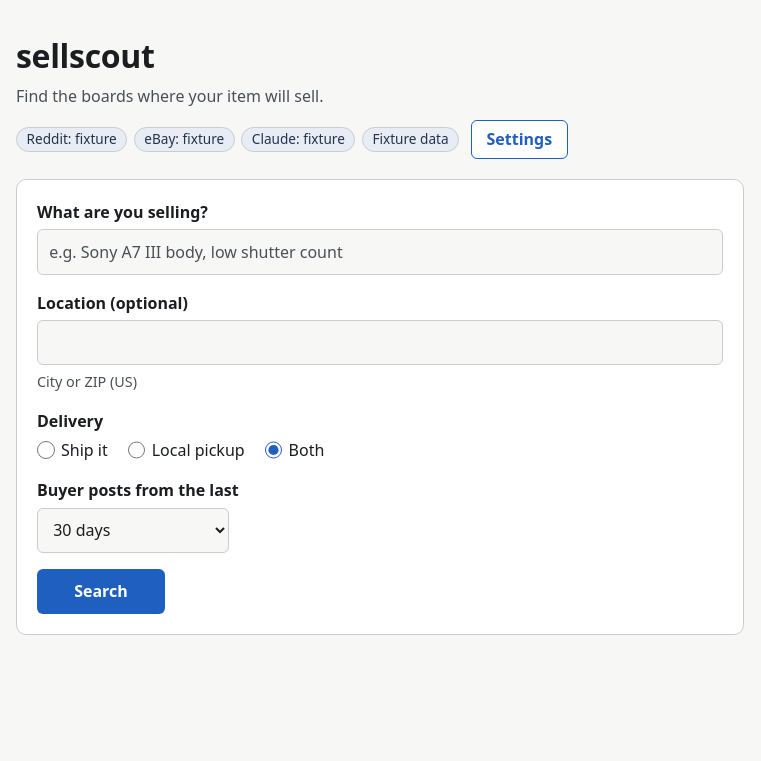
it: venue row: AI suggested badge › shows the badge as plain text and only the board link
In the field labelled "What are you selling?": (380, 252) [37,229,723,275], type "mechanical keyboard"
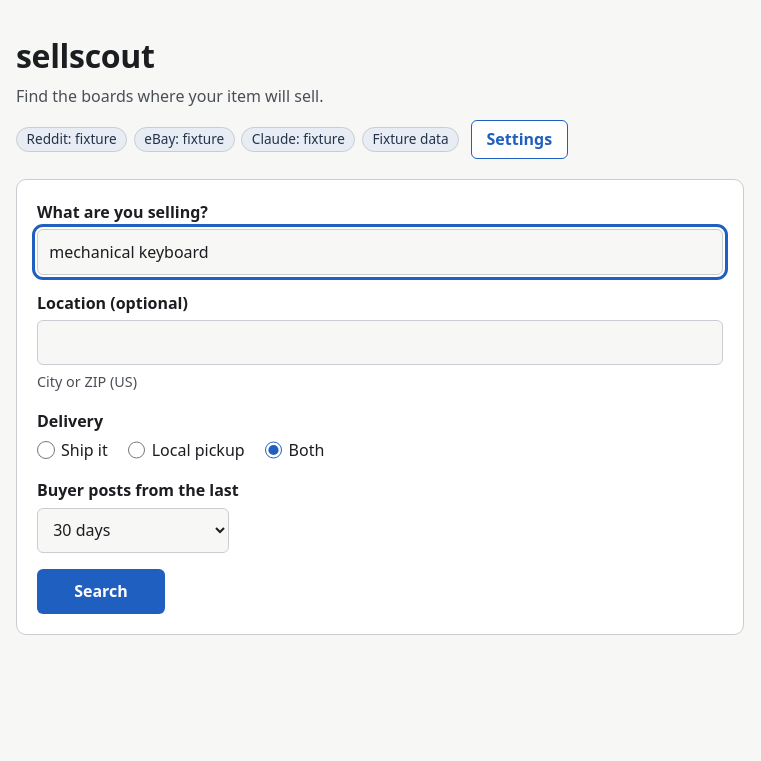
Click the button "Search": (101, 591) [37,569,165,614]
(page scrolled)
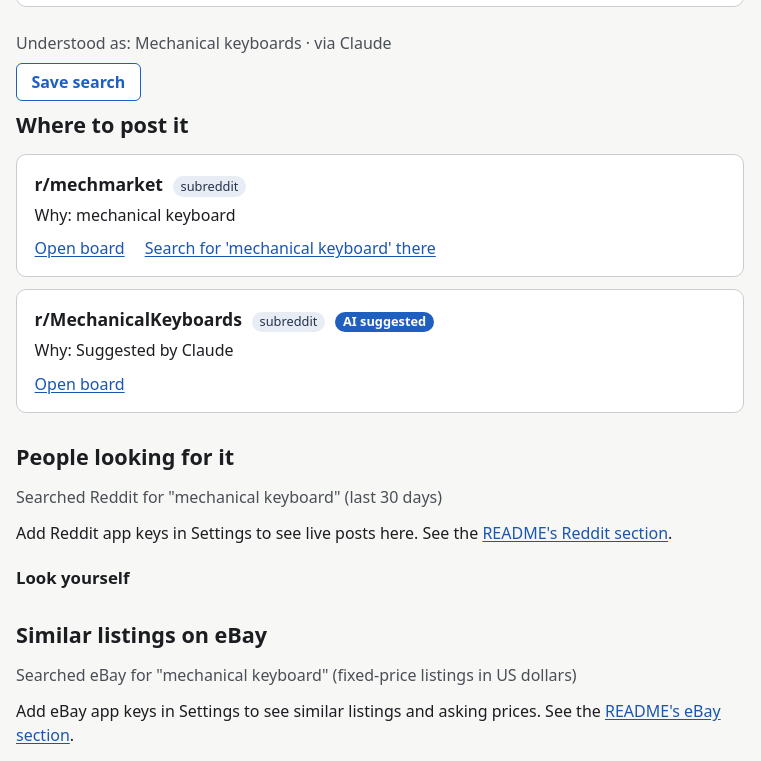
Expected: the heading "Where to post it" is shown, [16,110,189,140]
Expected: the text "Understood as: Mechanical keyboards · via Claude" is shown, [16,32,392,54]
Expected: the text "Why: Suggested by Claude" is shown, [35,339,234,361]
